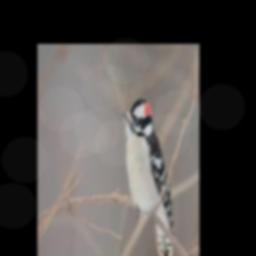Woodpecker: (121, 98, 174, 256)
